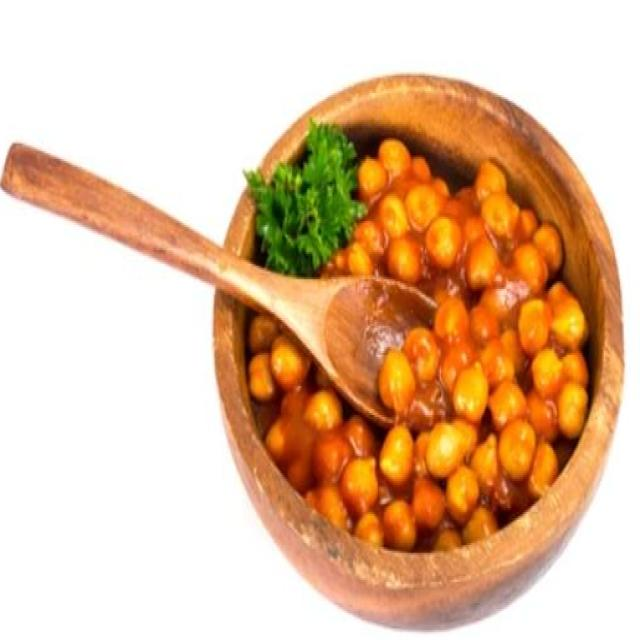Lablabi: (185, 63, 617, 633)
